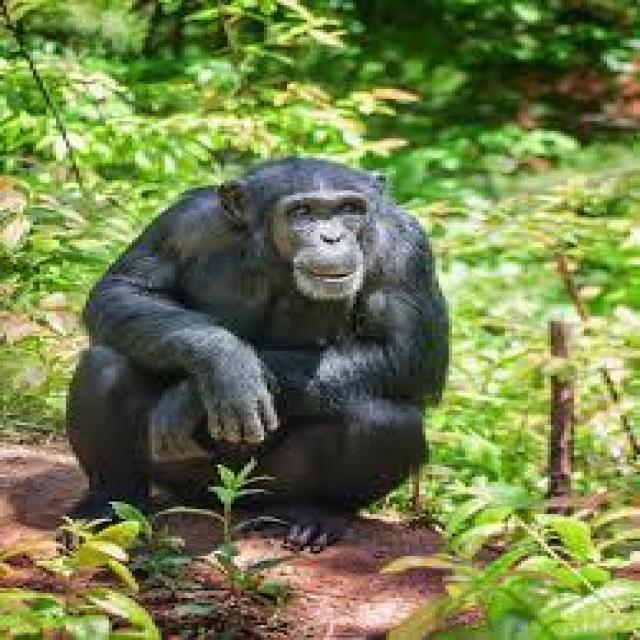Chimpanzee: (39, 115, 458, 535)
